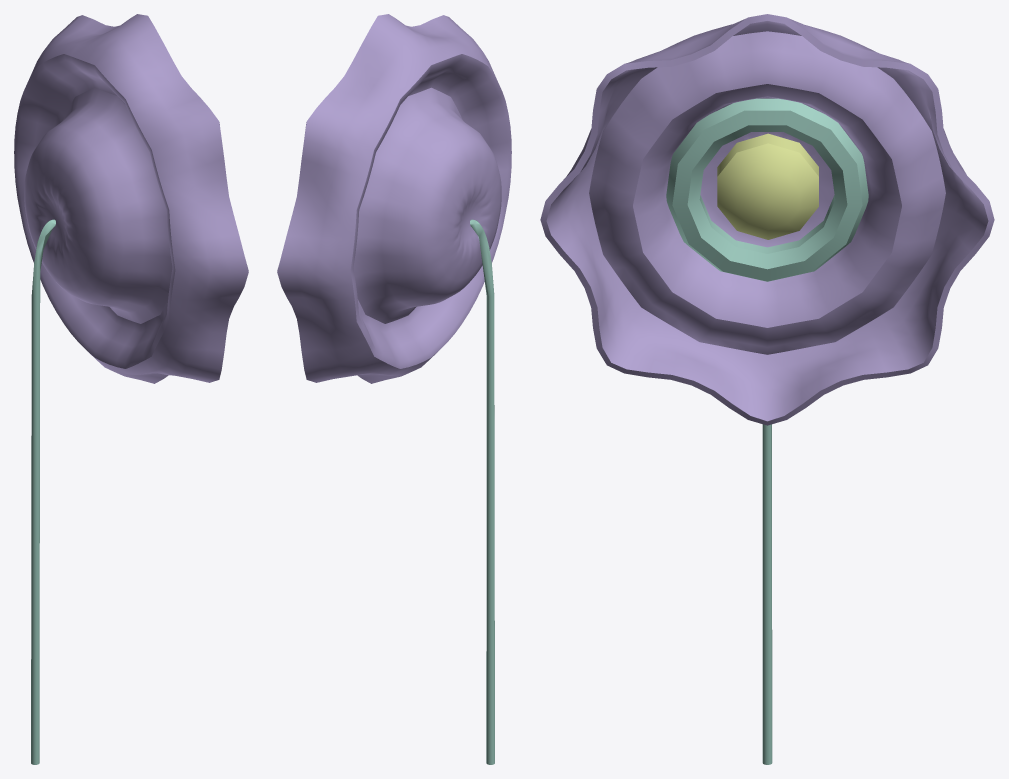
The model's file is prova.fbx.
The picture shows the model from 3 angles, left to right: view 1: azimuth 30°, elevation 25°; view 2: azimuth 150°, elevation 25°; view 3: azimuth 270°, elevation 25°; orthographic projection. The views are drawn at different scales.
Parts seen in each view (by area): view 1: Disc, Sweep; view 2: Disc, Sweep; view 3: Disc, Torus, Sphere, Sweep.
Boxes of the visible parts, bbox=[...] form: Disc: bbox=[14, 14, 248, 383]; Sweep: bbox=[31, 219, 55, 764]; Disc: bbox=[277, 14, 511, 383]; Sweep: bbox=[470, 219, 494, 764]; Disc: bbox=[540, 14, 994, 425]; Torus: bbox=[666, 98, 868, 281]; Sphere: bbox=[717, 133, 818, 239]; Sweep: bbox=[762, 424, 772, 764].
Bounding box in the file's own units: 68.06 × 394 × 200.
